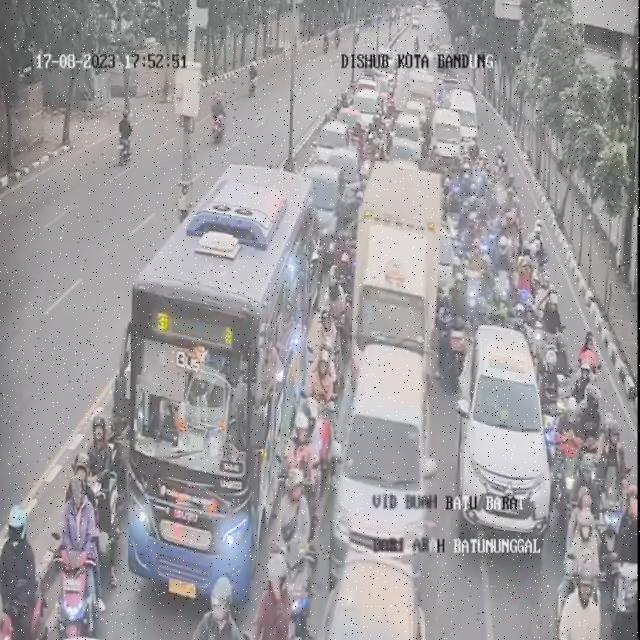bunch of motorcycle: (519, 218, 639, 639), (449, 173, 522, 325)
bus: (131, 286, 252, 596)
cars: (330, 345, 437, 588), (447, 325, 553, 554), (352, 162, 442, 381), (319, 555, 425, 639), (304, 164, 346, 240), (328, 147, 363, 206), (390, 112, 424, 169), (446, 90, 479, 139), (316, 120, 351, 162), (434, 108, 462, 156), (338, 93, 364, 141)
motorcycle: (45, 447, 101, 640), (74, 414, 124, 597), (271, 480, 325, 640), (282, 404, 330, 568), (291, 351, 343, 497), (0, 503, 45, 639), (307, 305, 346, 415)
